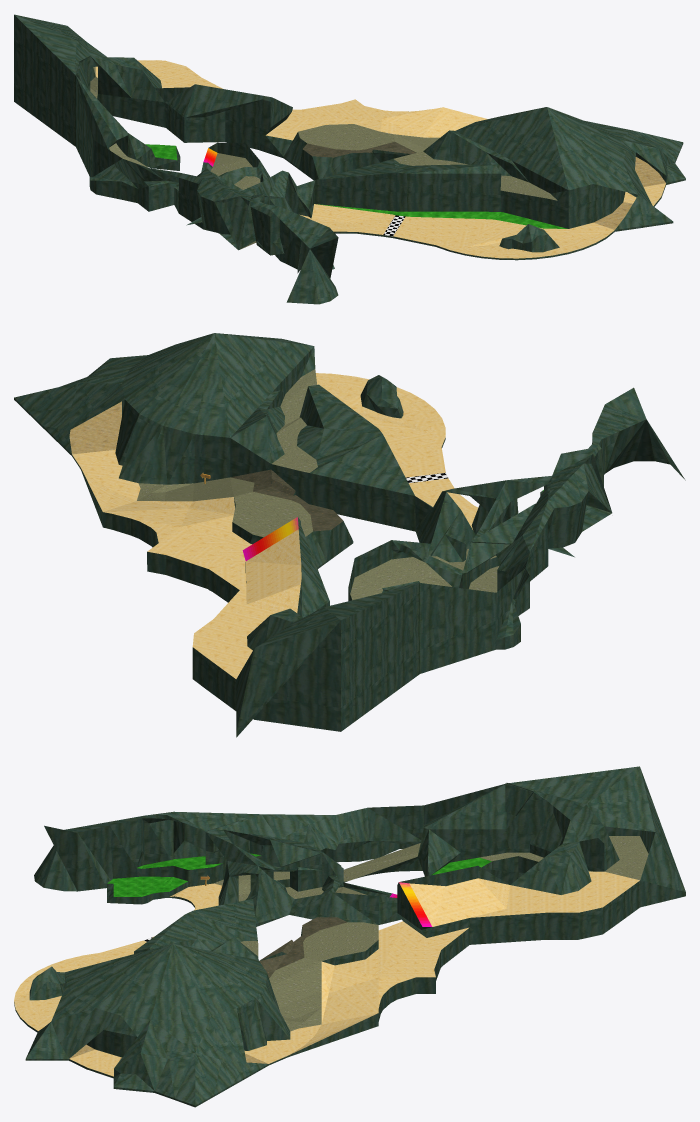
The picture shows the model from 3 angles, top to bottom: view 1: azimuth 30°, elevation 25°; view 2: azimuth 150°, elevation 25°; view 3: azimuth 270°, elevation 25°; orthographic projection. The views are drawn at different scales.
Visible parts, largest first — view 1: Sitbars_track-SKP--auto4, Sitbars_track-SKP--auto3, Sitbars_track-SKP--auto6, Sitbars_track-SKP--auto1, Sitbars_track-SKP--Material1, Sitbars_track-SKP--auto7; view 2: Sitbars_track-SKP--auto4, Sitbars_track-SKP--auto3, Sitbars_track-SKP--auto6, Sitbars_track-SKP--Material1, Sitbars_track-SKP--auto7, Sitbars_track-SKP--auto5; view 3: Sitbars_track-SKP--auto4, Sitbars_track-SKP--auto3, Sitbars_track-SKP--auto6, Sitbars_track-SKP--auto1, Sitbars_track-SKP--auto7.
Boxes of the visible parts, box(x1,y1,x2,y2) form: Sitbars_track-SKP--auto4: box(14, 14, 685, 304); Sitbars_track-SKP--auto3: box(95, 60, 665, 258); Sitbars_track-SKP--auto6: box(90, 67, 557, 249); Sitbars_track-SKP--auto1: box(145, 144, 567, 228); Sitbars_track-SKP--Material1: box(594, 157, 665, 229); Sitbars_track-SKP--auto7: box(303, 141, 416, 157); Sitbars_track-SKP--auto4: box(14, 333, 685, 737); Sitbars_track-SKP--auto3: box(72, 373, 478, 678); Sitbars_track-SKP--auto6: box(137, 369, 499, 600); Sitbars_track-SKP--Material1: box(69, 401, 121, 454); Sitbars_track-SKP--auto7: box(231, 469, 343, 531); Sitbars_track-SKP--auto5: box(242, 517, 298, 560); Sitbars_track-SKP--auto4: box(14, 766, 685, 1107); Sitbars_track-SKP--auto3: box(14, 871, 639, 1076); Sitbars_track-SKP--auto6: box(214, 836, 648, 1031); Sitbars_track-SKP--auto1: box(107, 853, 491, 896); Sitbars_track-SKP--auto7: box(259, 917, 346, 978).
Size of what is drawn, in the model's own units: 68427 by 12327 by 75212.
Materials: 11 (10 with a texture image).
